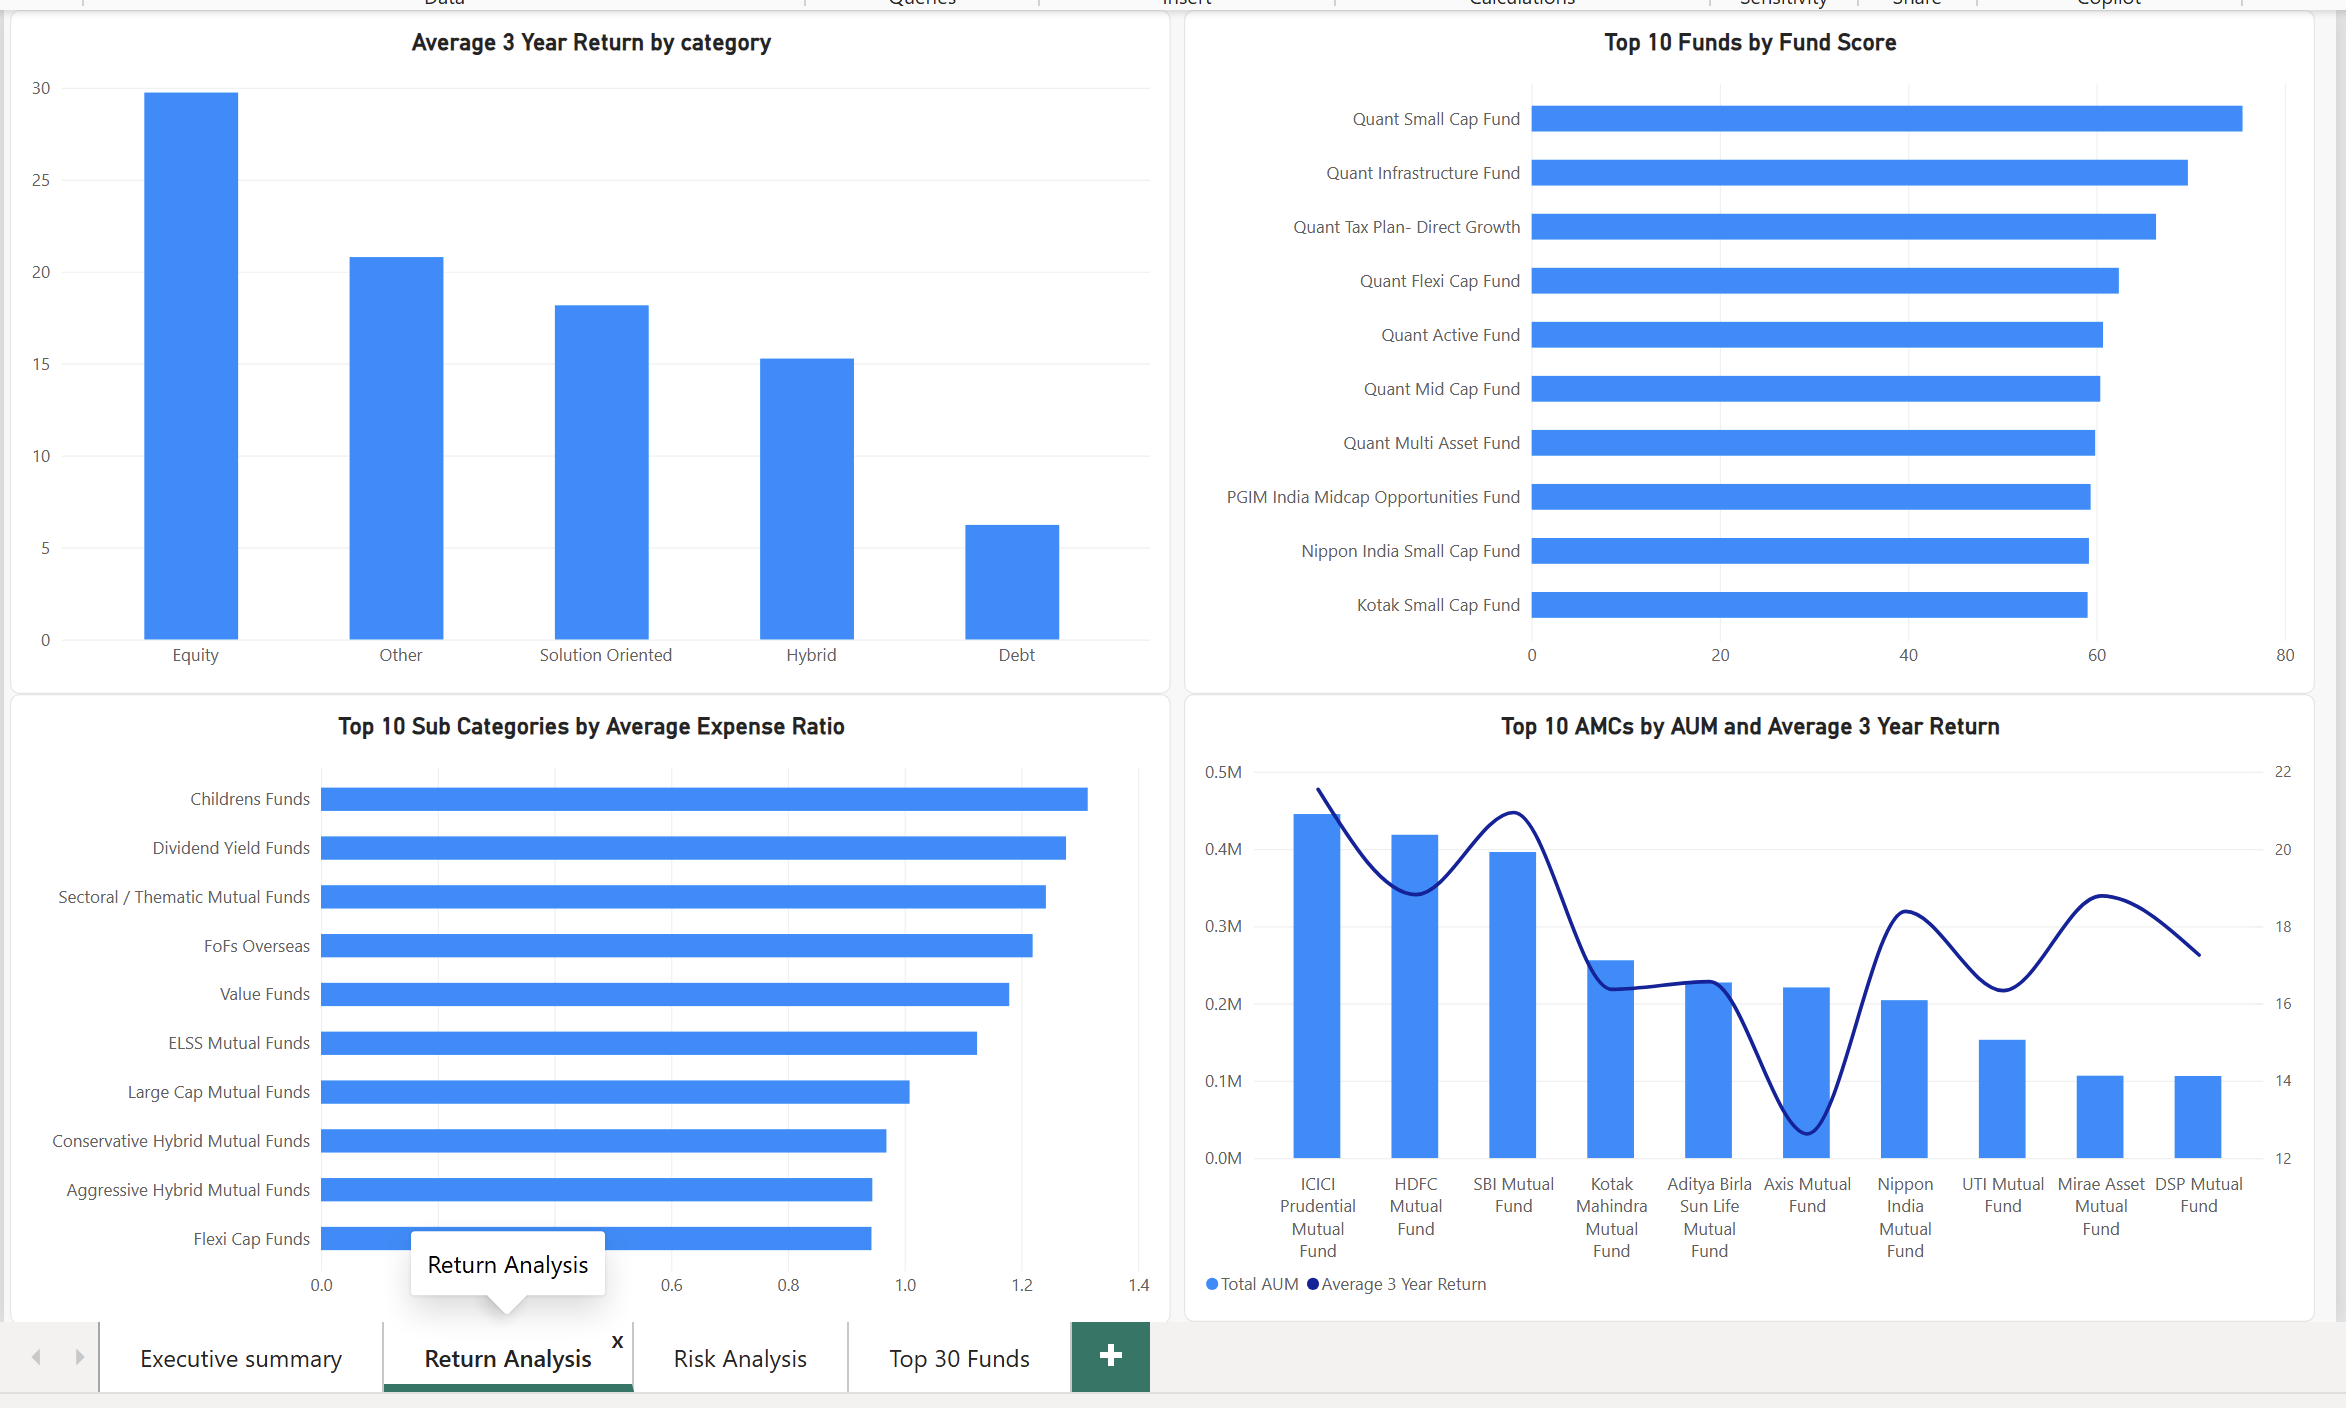

This screenshot's page, from the dashboard's own definition file:
{"tool":"powerbi","page":{"name":"Return Analysis","canvas":[1920,1080],"ordinal":1},"visuals":[{"type":"clusteredColumnChart","title":"Average 3 Year Return by category","fields":{"Category":["ranked_mutualfunds.category"],"Y":["ranked_mutualfunds.Average 3 Year Return"]},"box":[4.4,0,955.6,563.1],"z":0},{"type":"clusteredBarChart","title":"Top 10 Sub Categories by Average Expense Ratio","fields":{"Category":["ranked_mutualfunds.sub_category"],"Y":["ranked_mutualfunds.Average Expense Ratio"]},"box":[4.4,563.1,955.6,518.8],"z":1000},{"type":"clusteredBarChart","title":"Top 10 Funds by Fund Score","fields":{"Category":["ranked_mutualfunds.scheme_name"],"Y":["ranked_mutualfunds.Highest Fund Score"]},"box":[971.1,0,931.2,563.1],"z":2000},{"type":"lineClusteredColumnComboChart","title":"Top 10 AMCs by AUM and Average 3 Year Return","fields":{"Category":["ranked_mutualfunds.amc_name"],"Y":["ranked_mutualfunds.Total AUM"],"Y2":["ranked_mutualfunds.Average 3 Year Return"]},"box":[971,563,931,517],"z":3000}]}

Visuals, with their boxes on the page's 1920x1080 design canvas (x1, y1, x2, y2). These are canvas units, not pixel positions in the 2346x1408 screenshot, which may show the page scaled, cropped or inside an application window:
"Average 3 Year Return by category" clusteredColumnChart: left=4, top=0, right=960, bottom=563
"Top 10 Sub Categories by Average Expense Ratio" clusteredBarChart: left=4, top=563, right=960, bottom=1082
"Top 10 Funds by Fund Score" clusteredBarChart: left=971, top=0, right=1902, bottom=563
"Top 10 AMCs by AUM and Average 3 Year Return" lineClusteredColumnComboChart: left=971, top=563, right=1902, bottom=1080
